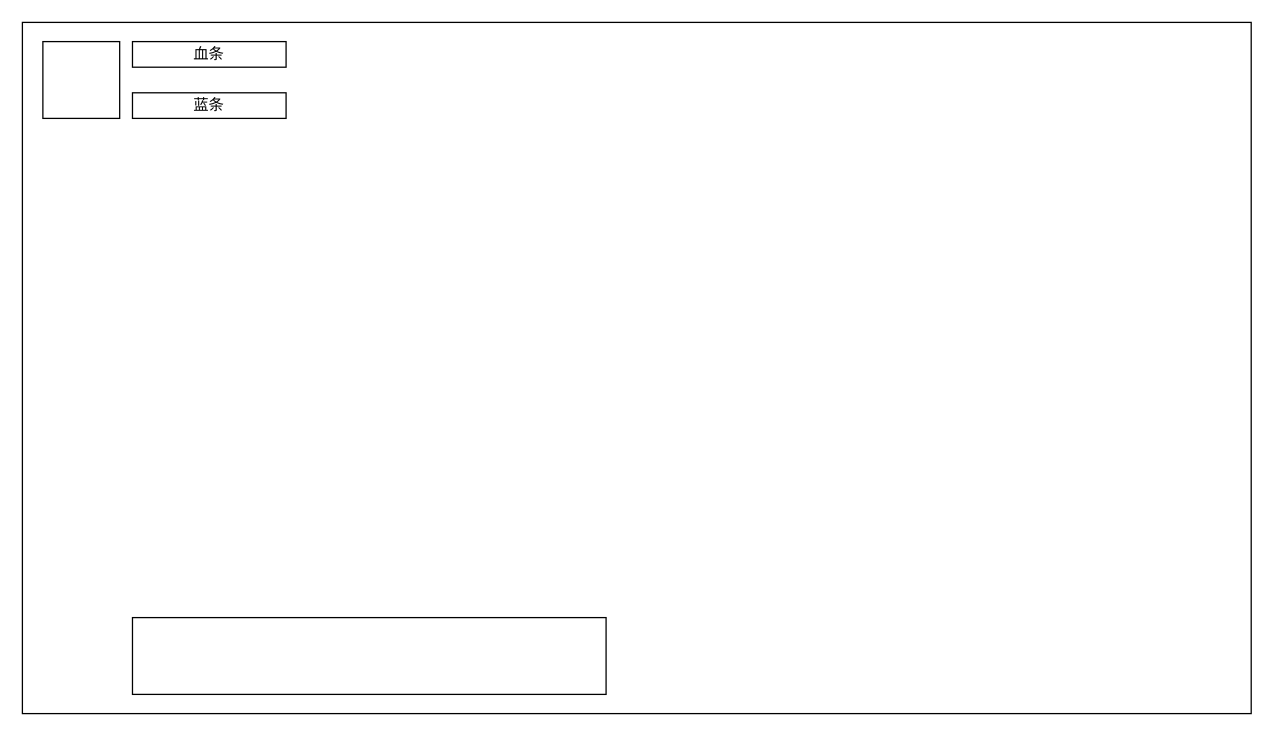
Image size: 1274x736. Some labels were removed from this diagram. Here are the shapes that lost their labels. From the top down, the box of each, then its label:
(42, 40, 120, 118): 头像
(131, 616, 606, 694): 技能条，5个格子
